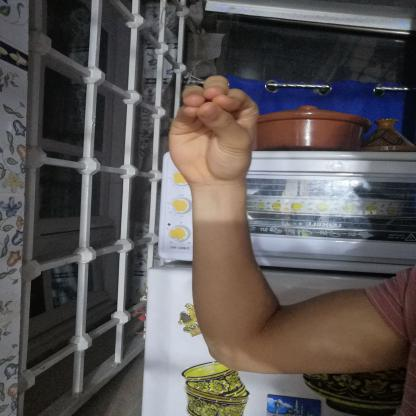HA: (155, 66, 277, 198)
